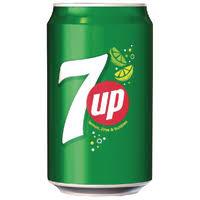can: (38, 2, 157, 195)
